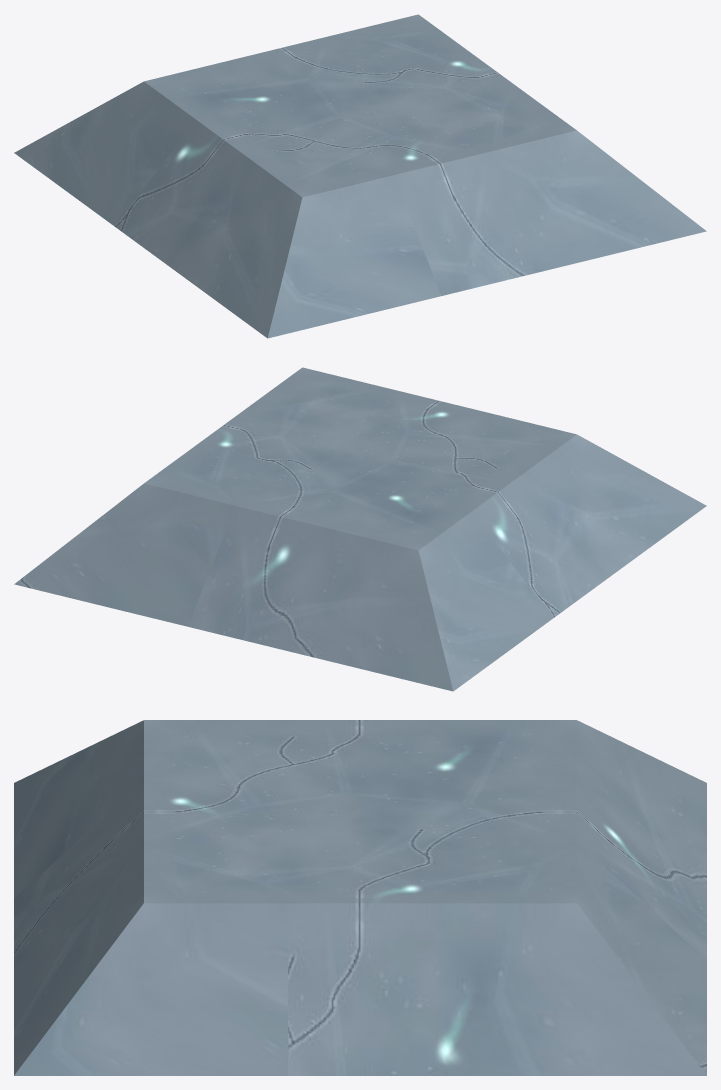
Rendered from helheim_gjoll_ice.glb.
3 renders of one model, top to bottom at view 1: azimuth 30°, elevation 25°; view 2: azimuth 150°, elevation 25°; view 3: azimuth 270°, elevation 25°, orthographic. The views are drawn at different scales.
Visible parts, largest first — view 1: helheim_gjoll_ice; view 2: helheim_gjoll_ice; view 3: helheim_gjoll_ice.
Part boxes in pixels (x1=…): helheim_gjoll_ice: x1=14, y1=14, x2=706, y2=338; helheim_gjoll_ice: x1=14, y1=367, x2=706, y2=691; helheim_gjoll_ice: x1=14, y1=720, x2=706, y2=1075.
Size of the model in its own units: 1.6 by 0.3 by 1.6.
1 material, 1 textured.
